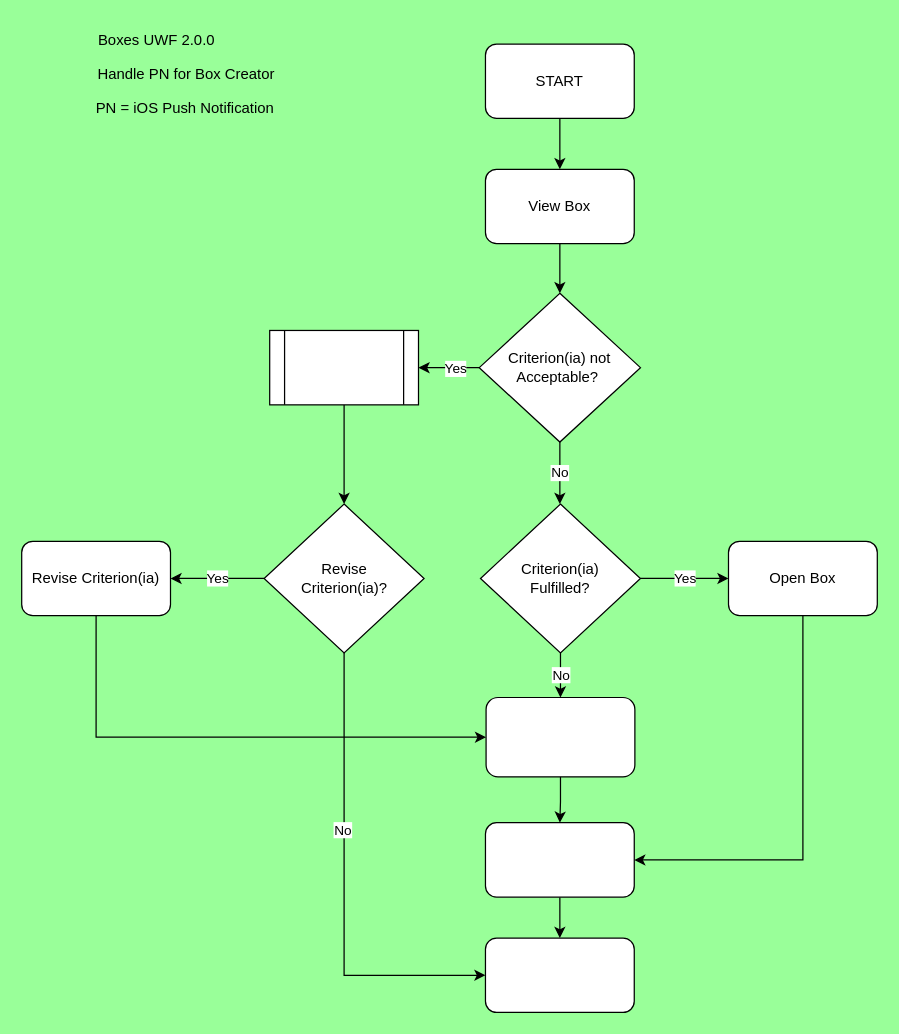
Some shapes in this 899 by 1034 pixel diagram are drawn without their labels. The box of each missing label's shape, as (x1, y1, x2, y2) in pixels:
Dispatch PN for Box Recipient: (484, 822, 634, 897)
END: (484, 937, 634, 1012)
Messaging: (268, 329, 418, 405)
Save Box: (485, 696, 635, 777)
